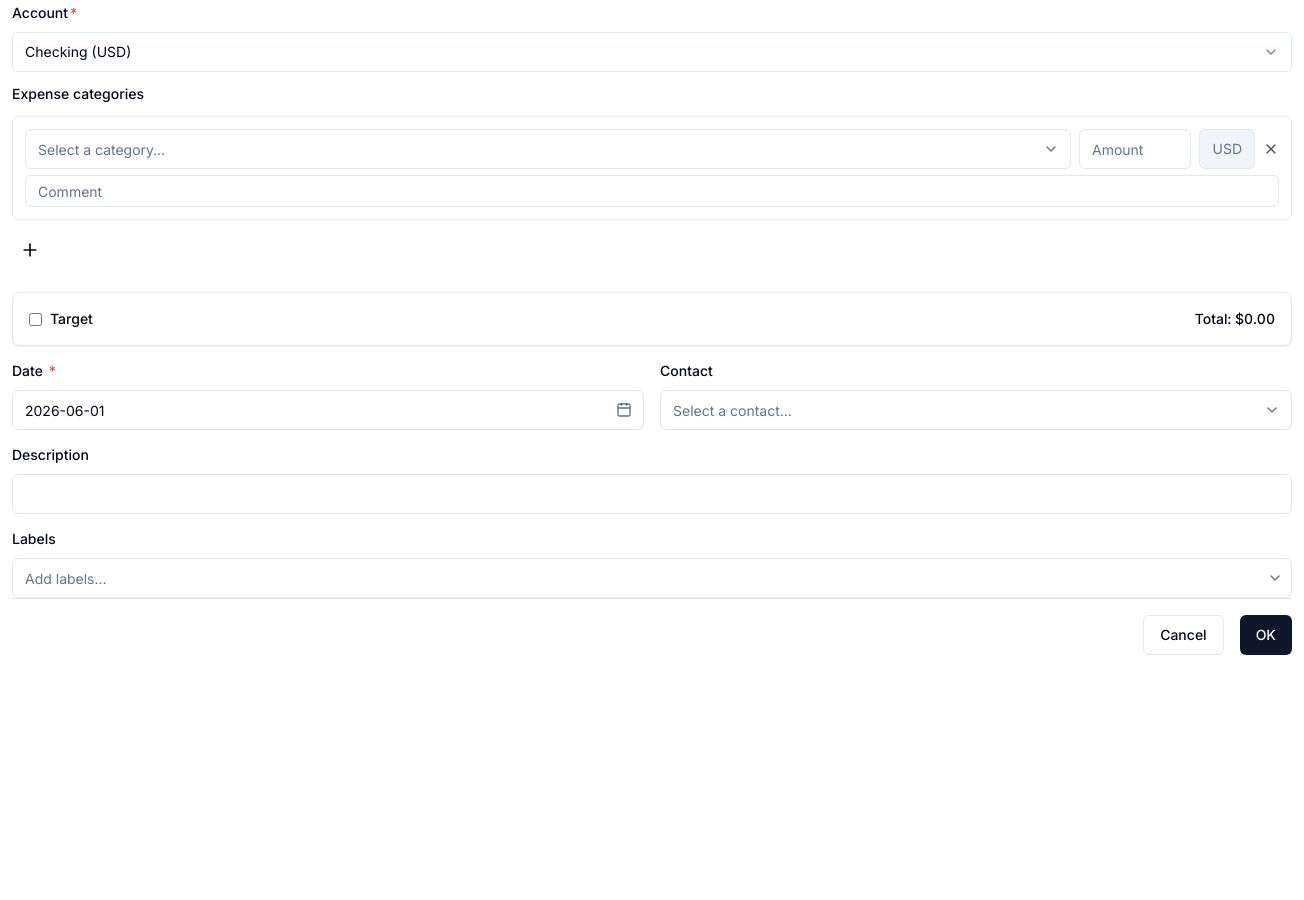
it: IncomeExpenseForm › updates the locked currency badge when the account changes
Expected: the text with test id "currency-badge" reads "USD", x1=1212 y1=140 x2=1242 y2=157
Click the dropdown named "account": [56, 52] box x1=12 y1=32 x2=1292 y2=72
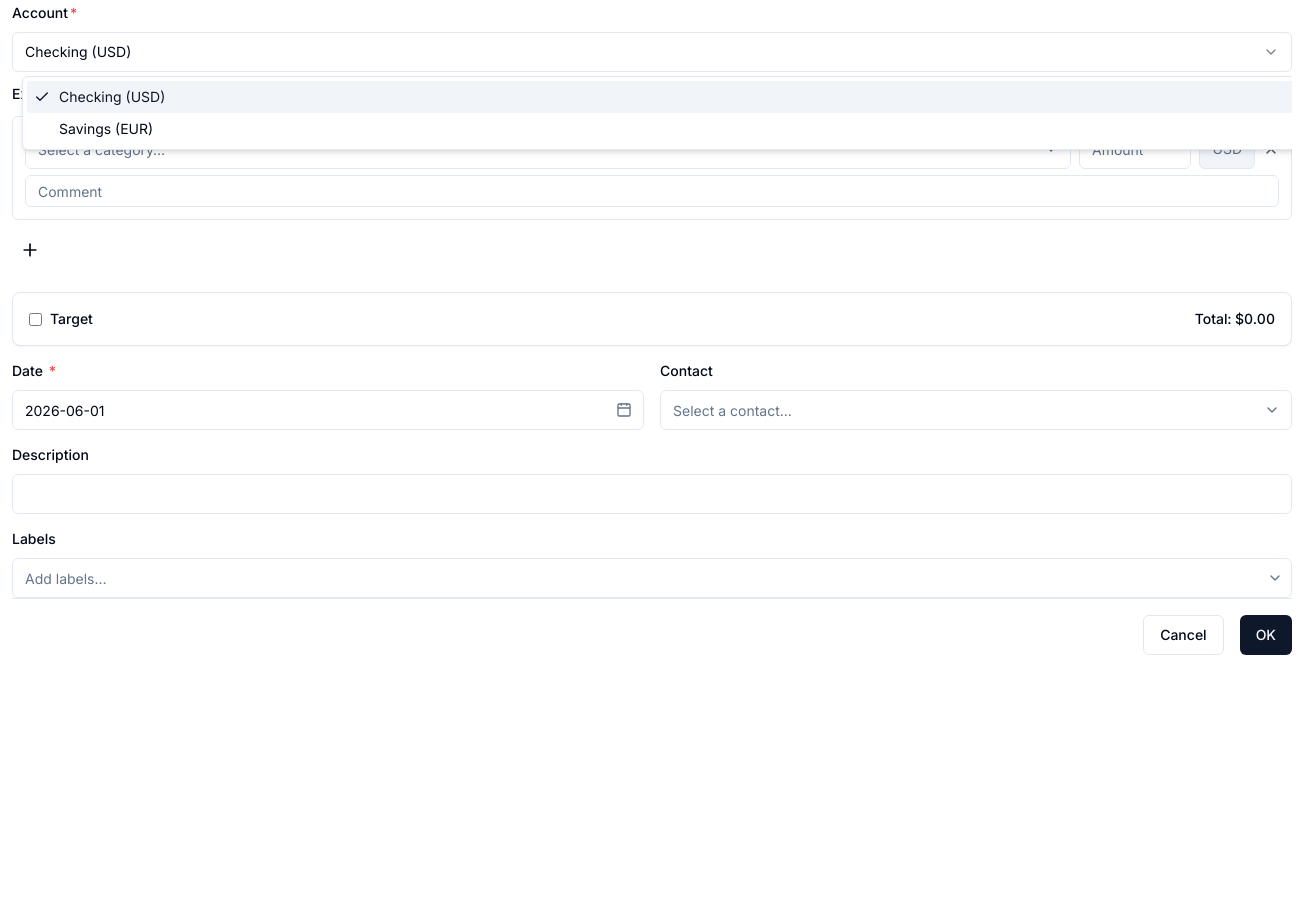
Click the option "Savings (EUR)": [106, 128] box x1=59 y1=120 x2=153 y2=137
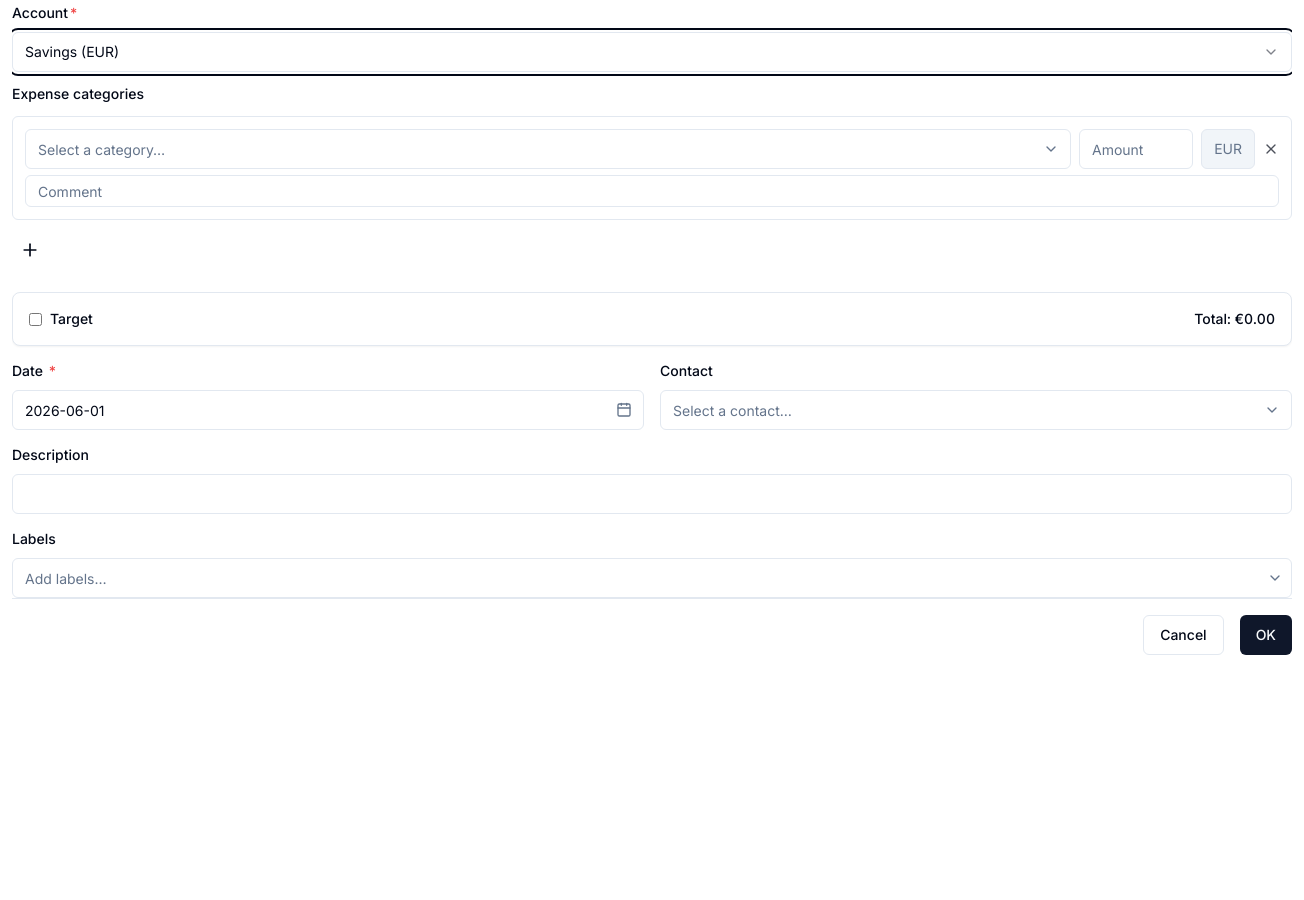
Expected: the text with test id "currency-badge" reads "EUR", x1=1214 y1=140 x2=1242 y2=157
